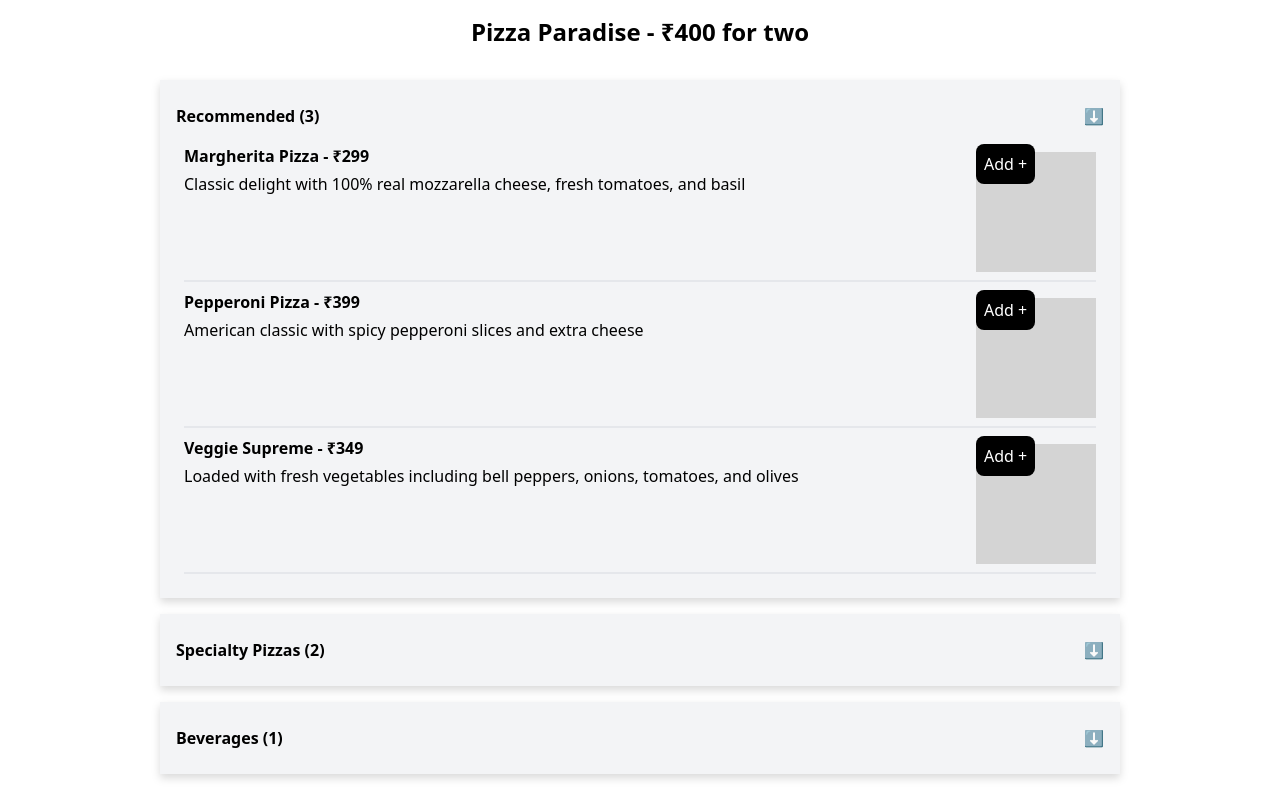
Scenario: Cart Flow Testing › Should show foodItem when clicked on Accordion
Step 1. Click the heading "Specialty Pizzas (2)" → (250, 650), box [176, 638, 325, 662]
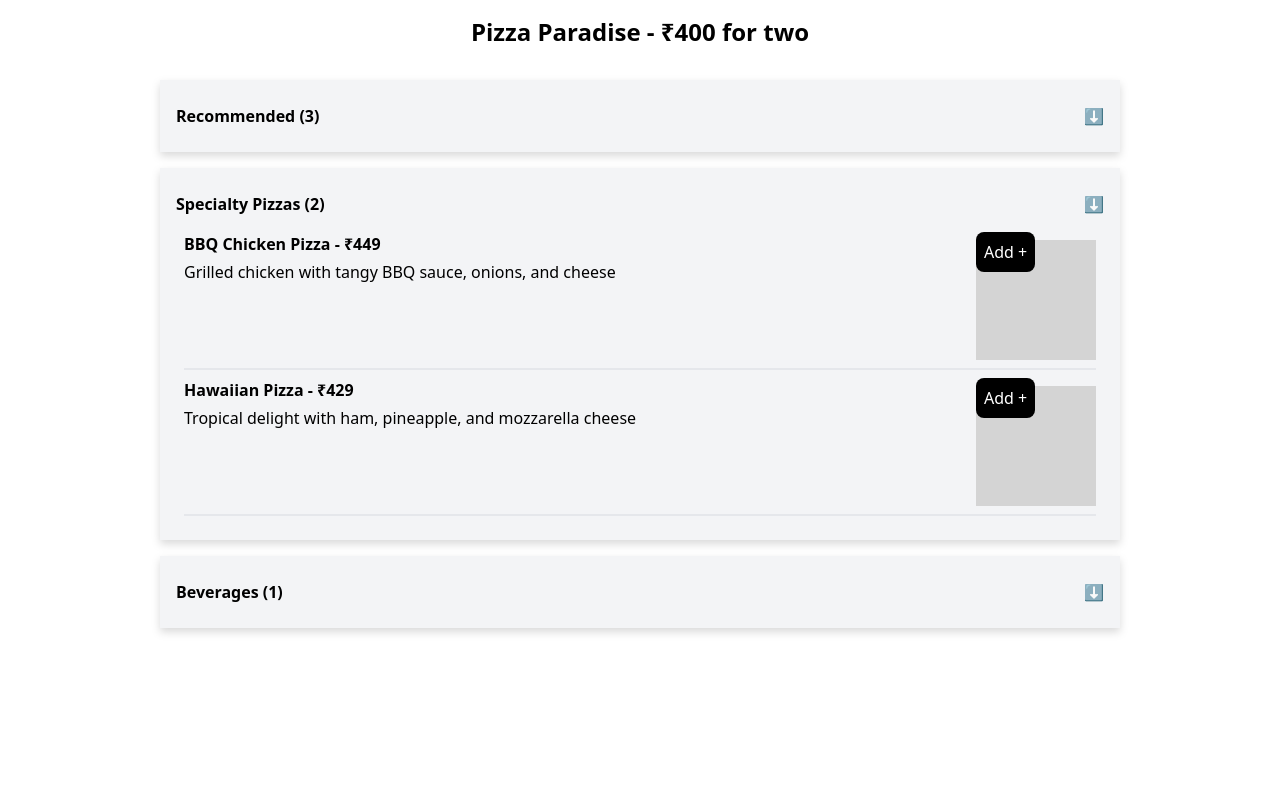
Check: the number of elements with test id "foodItems" is 2, box [184, 232, 1096, 370]; [184, 378, 1096, 516]
